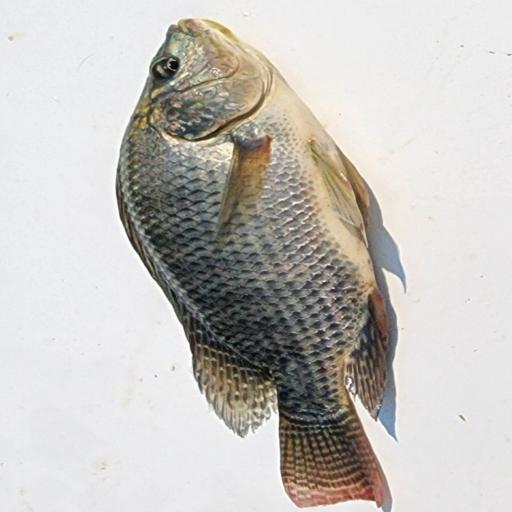Tilapia: (115, 18, 393, 510)
